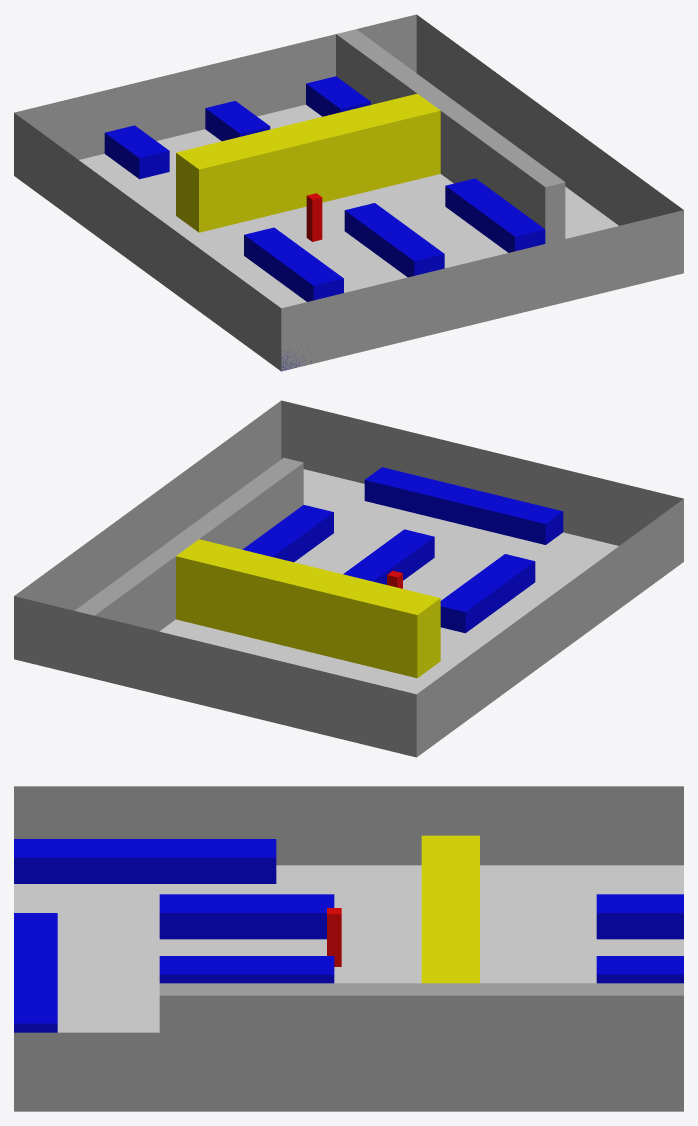
File: laboratory_room.fbx
3 views of the same model, one above another, from view 1: azimuth 30°, elevation 25°; view 2: azimuth 150°, elevation 25°; view 3: azimuth 270°, elevation 25° (orthographic). The views are drawn at different scales.
Visible parts, largest first — view 1: laboratory_room, placeholder_wall, placeholder_fume, placeholder_fume3, placeholder_fume2, placeholder_fume1, placeholder_desk12, placeholder_desk8, placeholder_desk10, placeholder_desk6, placeholder_desk11, placeholder_desk9 (+4 smaller); view 2: laboratory_room, placeholder_wall, placeholder_fume, placeholder_fume3, placeholder_fume2, placeholder_fume1, placeholder_desk3, placeholder_desk5, placeholder_desk4, placeholder_desk7, placeholder_desk6, placeholder_desk10 (+3 smaller); view 3: laboratory_room, placeholder_wall, placeholder_desk12, placeholder_desk6, placeholder_desk2, placeholder_desk, placeholder_desk1, placeholder_desk7, placeholder_desk13, placeholder_desk8, placeholder_desk9, placeholder_fume3 (+7 smaller).
Boxes of the visible parts, x1=… form: laboratory_room: x1=14, y1=14, x2=683, y2=371; placeholder_wall: x1=336, y1=29, x2=565, y2=243; placeholder_fume: x1=176, y1=138, x2=259, y2=232; placeholder_fume3: x1=357, y1=93, x2=440, y2=188; placeholder_fume2: x1=297, y1=108, x2=380, y2=202; placeholder_fume1: x1=236, y1=123, x2=319, y2=217; placeholder_desk12: x1=104, y1=125, x2=169, y2=179; placeholder_desk8: x1=379, y1=228, x2=444, y2=277; placeholder_desk10: x1=480, y1=204, x2=545, y2=252; placeholder_desk6: x1=279, y1=253, x2=343, y2=301; placeholder_desk11: x1=445, y1=178, x2=509, y2=231; placeholder_desk9: x1=344, y1=203, x2=409, y2=256; laboratory_room: x1=14, y1=400, x2=683, y2=757; placeholder_wall: x1=74, y1=457, x2=303, y2=631; placeholder_fume: x1=357, y1=583, x2=440, y2=678; placeholder_fume3: x1=176, y1=539, x2=258, y2=633; placeholder_fume2: x1=236, y1=554, x2=319, y2=648; placeholder_fume1: x1=296, y1=568, x2=379, y2=663; placeholder_desk3: x1=485, y1=496, x2=563, y2=544; placeholder_desk5: x1=364, y1=467, x2=441, y2=515; placeholder_desk4: x1=425, y1=482, x2=502, y2=530; placeholder_desk7: x1=440, y1=579, x2=500, y2=633; placeholder_desk6: x1=470, y1=554, x2=535, y2=607; placeholder_desk10: x1=269, y1=505, x2=333, y2=558; laboratory_room: x1=14, y1=786, x2=683, y2=1111; placeholder_wall: x1=159, y1=983, x2=683, y2=1032; placeholder_desk12: x1=596, y1=894, x2=683, y2=939; placeholder_desk6: x1=159, y1=894, x2=246, y2=939; placeholder_desk2: x1=188, y1=839, x2=276, y2=883; placeholder_desk: x1=14, y1=839, x2=101, y2=883; placeholder_desk1: x1=101, y1=839, x2=188, y2=883; placeholder_desk7: x1=247, y1=894, x2=334, y2=939; placeholder_desk13: x1=596, y1=956, x2=683, y2=983; placeholder_desk8: x1=159, y1=956, x2=246, y2=983; placeholder_desk9: x1=247, y1=956, x2=334, y2=983; placeholder_fume3: x1=421, y1=946, x2=479, y2=983.
Bounding box in the file's own units: 0.2 × 0.03 × 0.23.
